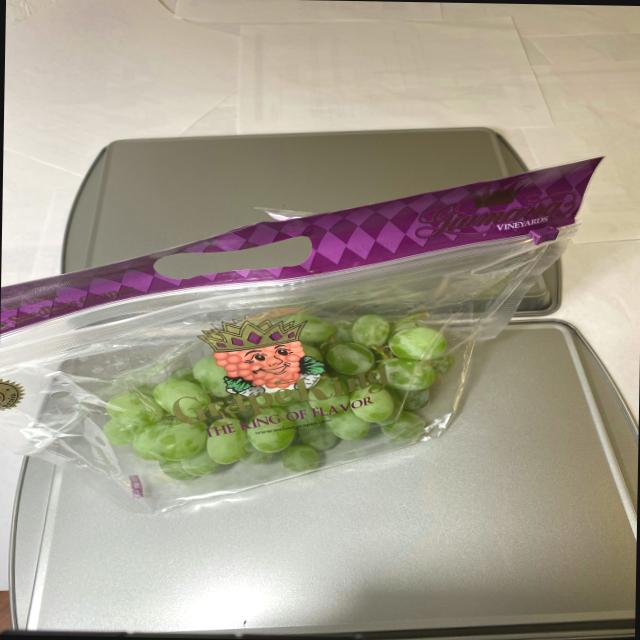grapes: (112, 299, 471, 496)
